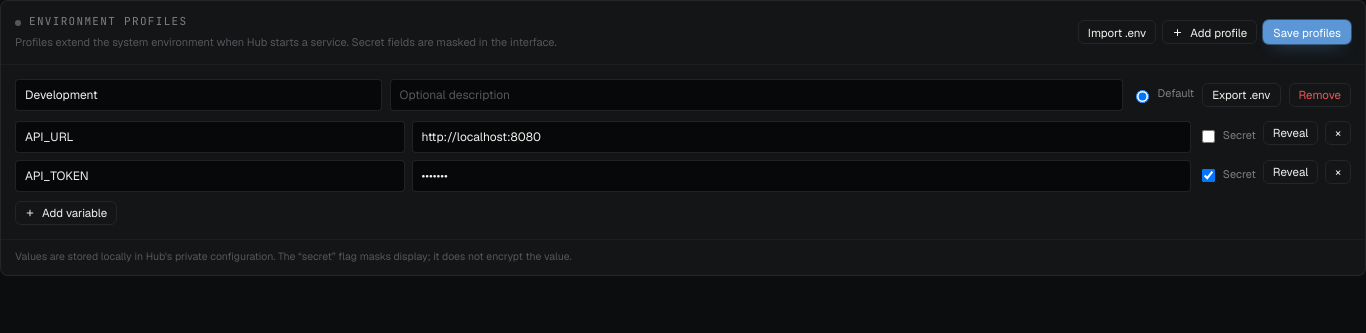
Test case: EnvProfilesPanel › exports the selected profile including secret values after confirmation
The image size is (1366, 333).
Click the button "Export .env".
click(1241, 95)  # box [1202,83,1280,107]
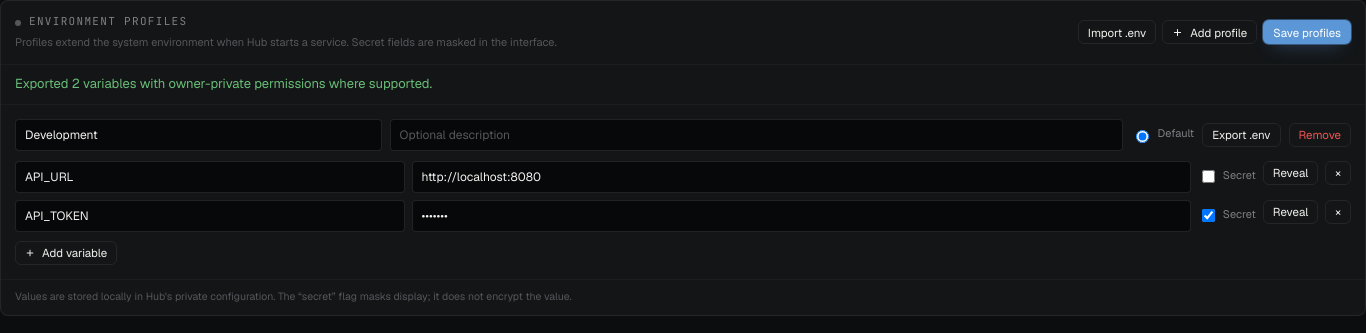
Now the text "owner-private permissions" is shown, box [15,75,432,92]
